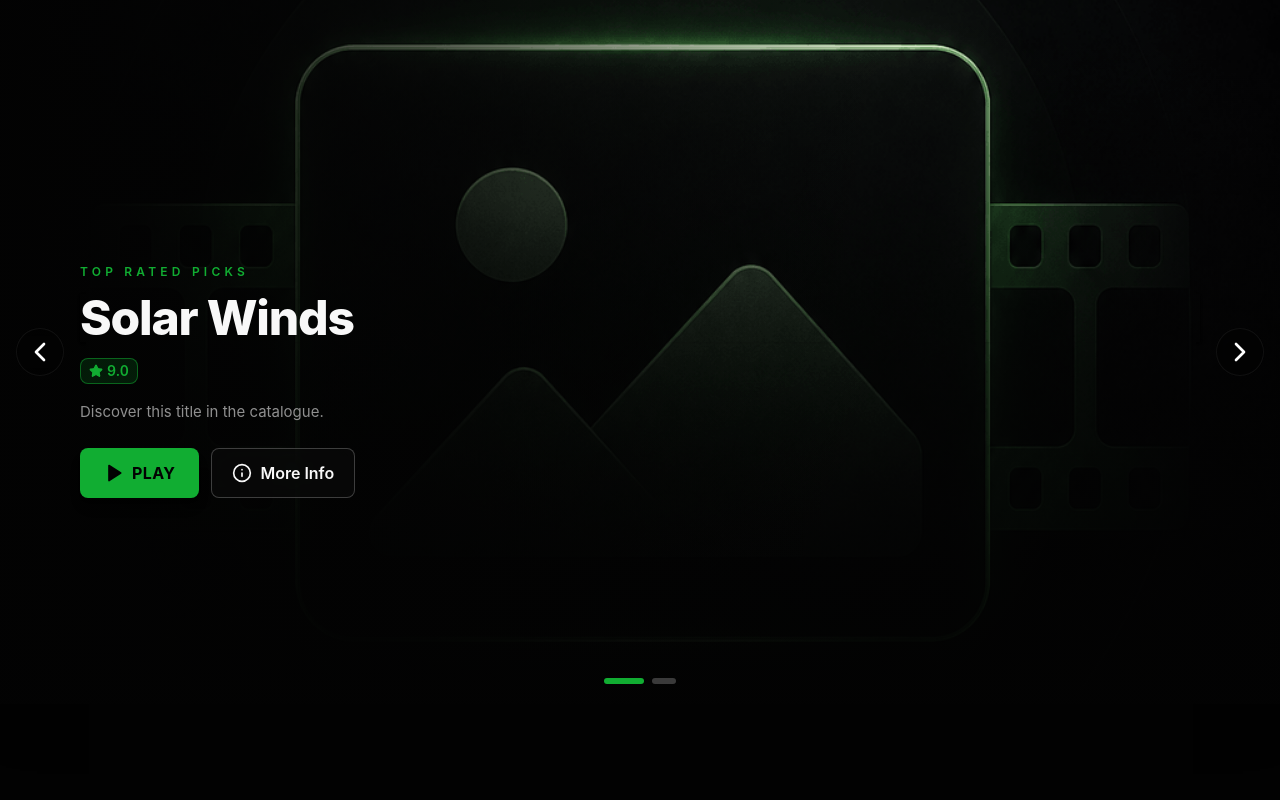
Test: FeaturedHeroSlider › shows the next slide after clicking next
Click the button named "Next featured show": (1240, 352) [1216,328,1264,376]
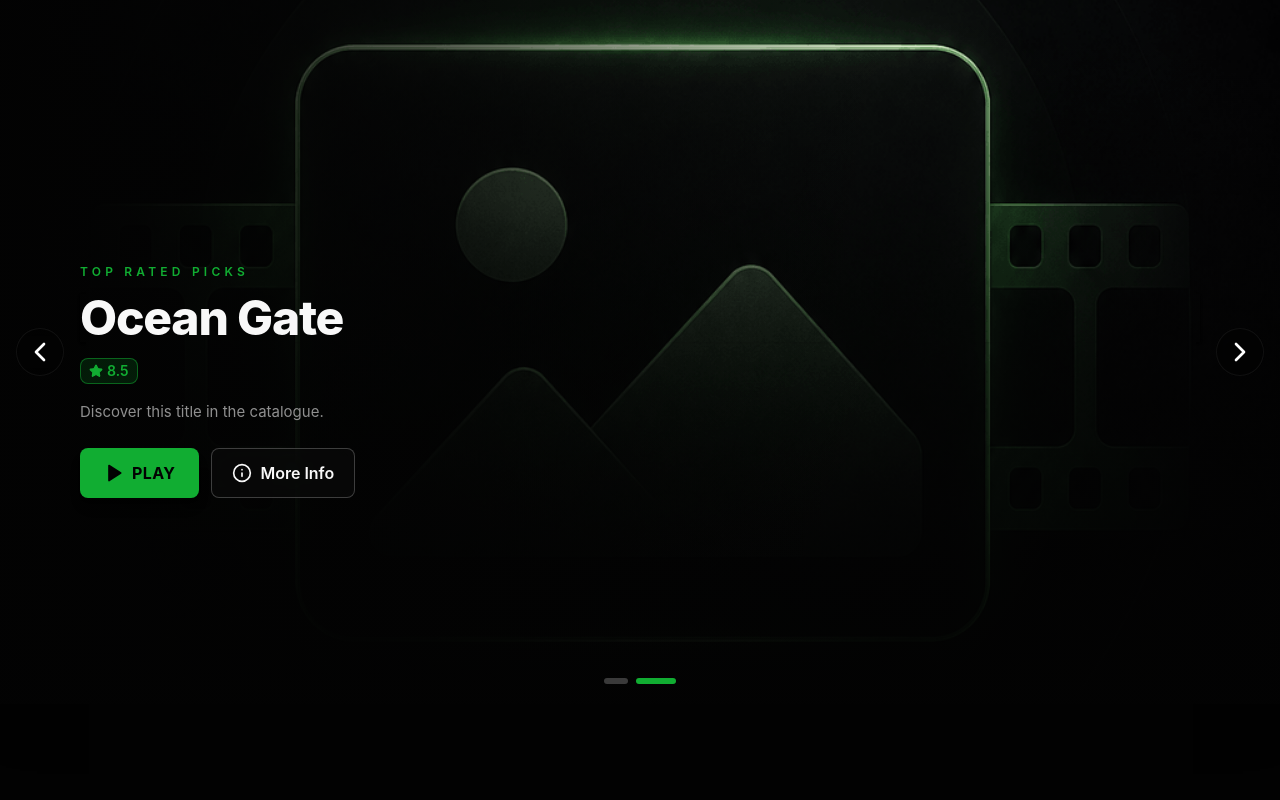
Now the heading "Ocean Gate" is shown, box [80,294,1200,342]
